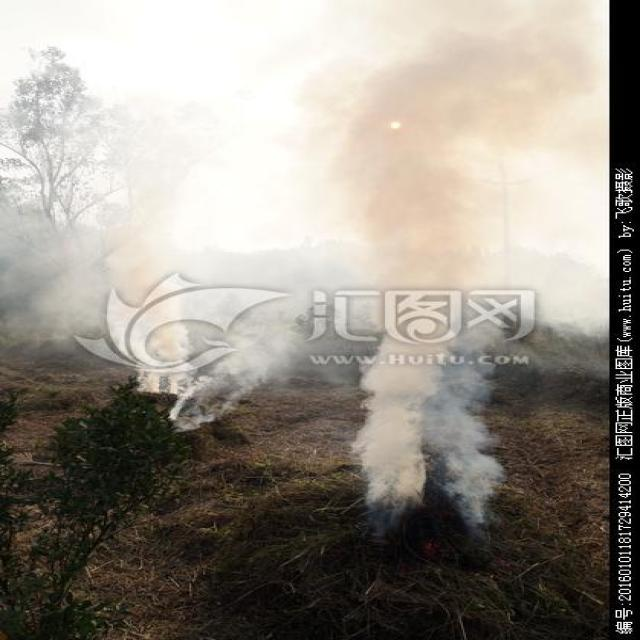Smoke: (1, 1, 608, 543)
